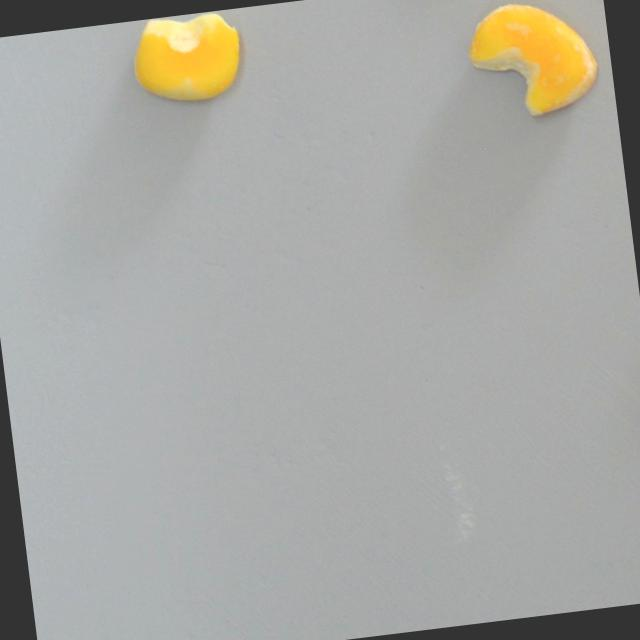no_desgerminado: (125, 8, 248, 111)
pelicula: (459, 0, 608, 129)
